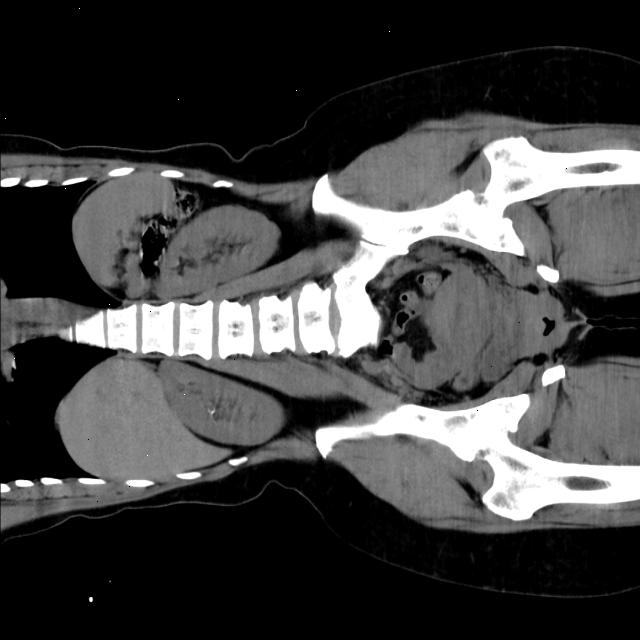kidneystone: (208, 411, 214, 423)
